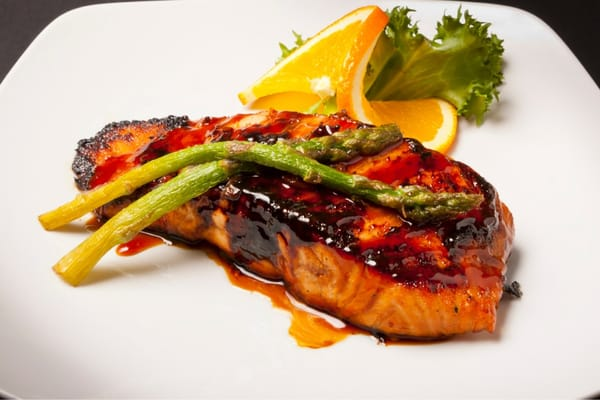curry: (365, 4, 507, 127)
